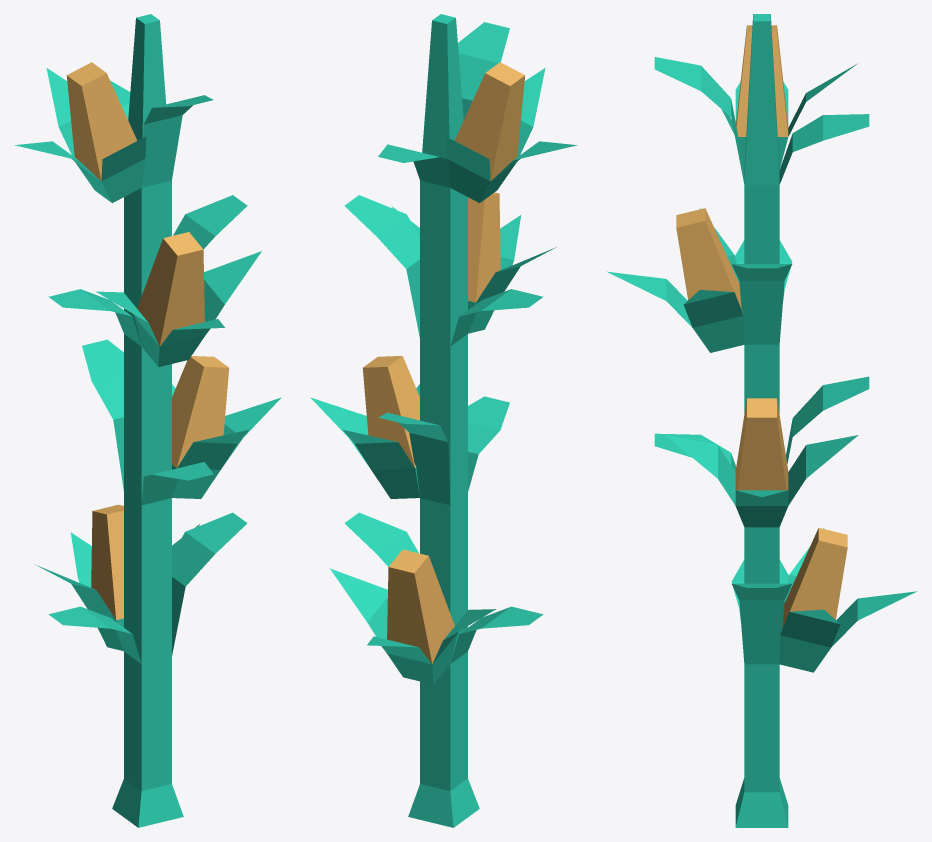
The model's file is crops_cornStageD.obj.
The picture shows the model from 3 angles, left to right: view 1: azimuth 30°, elevation 25°; view 2: azimuth 150°, elevation 25°; view 3: azimuth 270°, elevation 25°; orthographic projection.
Visible parts, largest first — view 1: crops_cornStageD; view 2: crops_cornStageD; view 3: crops_cornStageD.
Boxes of the visible parts, x1=… form: crops_cornStageD: x1=14, y1=14, x2=281, y2=827; crops_cornStageD: x1=310, y1=14, x2=577, y2=827; crops_cornStageD: x1=607, y1=14, x2=916, y2=827.
Size of the model in its own units: 0.4416 by 1.25 by 0.4416.
